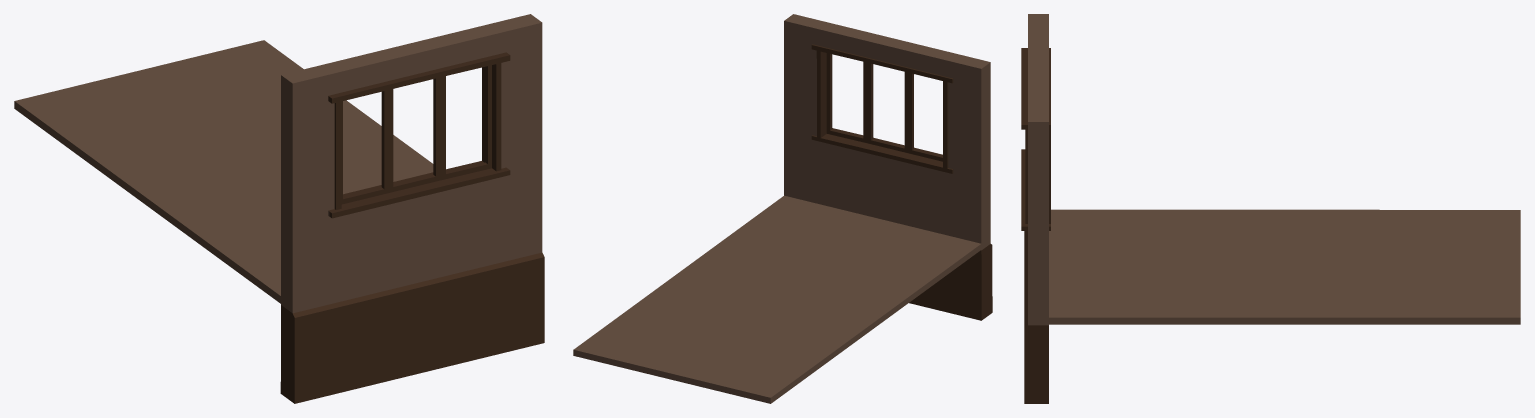
Rendered from Lower_floor_large_type1.FBX.
The picture shows the model from 3 angles, left to right: view 1: azimuth 30°, elevation 25°; view 2: azimuth 150°, elevation 25°; view 3: azimuth 270°, elevation 25°; orthographic projection. The views are drawn at different scales.
Parts seen in each view (by area): view 1: Hub_2_004; view 2: Hub_2_004; view 3: Hub_2_004.
Boxes of the visible parts, left/top/right/bottom form: Hub_2_004: left=14, top=14, right=544, bottom=403; Hub_2_004: left=573, top=14, right=992, bottom=403; Hub_2_004: left=1021, top=14, right=1520, bottom=403.
Bounding box in the file's own units: 319 × 623 × 388.
